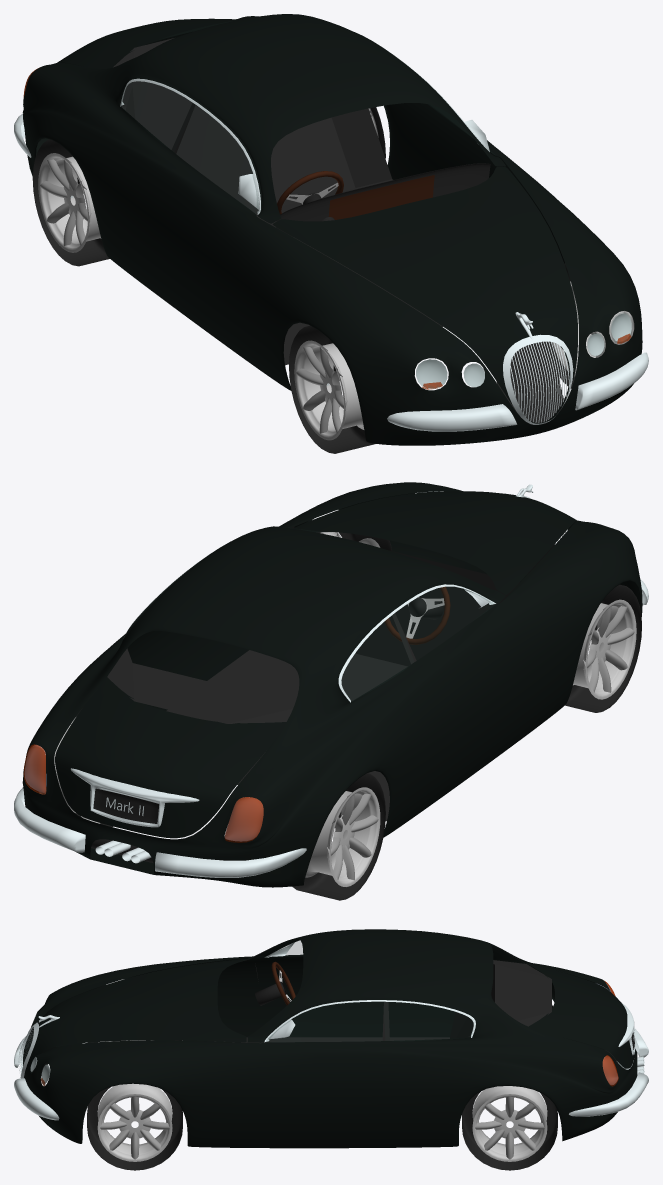
Rendered from JAGUAR SALOON.glb.
3 renders of one model, top to bottom at view 1: azimuth 30°, elevation 25°; view 2: azimuth 150°, elevation 25°; view 3: azimuth 270°, elevation 25°, orthographic. The views are drawn at different scales.
Parts seen in each view (by area): view 1: body, Plane, Minilite (×3), body.001, pneu (×3), board, ss_v, wws (×2), radiator, Würfel_2_3, reflectors, grill (+4 smaller); view 2: body, Plane, body.001, Minilite (×2), pneu (×4), ss_h, wws (×2), numb, heckleuchte, refl, exhaust, Nardi; view 3: body, body.001, Minilite (×2), pneu (×4), Plane, wws (×2), ss_h, ss_v, mirror, hub, Nardi, heckleuchte (+2 smaller).
Part boxes in pixels (bbox=[...]): body: bbox=[22, 14, 642, 445]; Plane: bbox=[113, 38, 442, 365]; Minilite (×3): bbox=[38, 153, 634, 440]; body.001: bbox=[120, 82, 494, 213]; pneu (×3): bbox=[32, 107, 574, 453]; board: bbox=[276, 163, 490, 236]; ss_v: bbox=[387, 352, 648, 431]; wws (×2): bbox=[40, 158, 347, 433]; radiator: bbox=[496, 341, 564, 423]; Würfel_2_3: bbox=[510, 341, 569, 422]; reflectors: bbox=[416, 313, 631, 389]; grill: bbox=[503, 334, 573, 424]; body: bbox=[22, 482, 642, 887]; Plane: bbox=[107, 527, 519, 821]; body.001: bbox=[342, 587, 495, 701]; Minilite (×2): bbox=[305, 599, 636, 886]; pneu (×4): bbox=[75, 532, 641, 900]; ss_h: bbox=[14, 787, 306, 877]; wws (×2): bbox=[327, 604, 634, 880]; numb: bbox=[70, 768, 199, 827]; heckleuchte: bbox=[23, 744, 263, 842]; refl: bbox=[25, 745, 263, 841]; exhaust: bbox=[95, 840, 151, 863]; Nardi: bbox=[384, 586, 450, 644]; body: bbox=[23, 929, 637, 1148]; body.001: bbox=[266, 941, 473, 1041]; Minilite (×2): bbox=[97, 1083, 547, 1161]; pneu (×4): bbox=[87, 1005, 557, 1170]; Plane: bbox=[214, 960, 551, 1043]; wws (×2): bbox=[100, 1096, 544, 1159]; ss_h: bbox=[569, 1028, 648, 1116]; ss_v: bbox=[14, 1036, 59, 1120]; mirror: bbox=[268, 942, 295, 1039]; hub: bbox=[255, 981, 286, 1005]; Nardi: bbox=[271, 961, 295, 1005]; heckleuchte: bbox=[602, 981, 618, 1086].
Bounding box in the file's own units: 17.01 × 12.3 × 42.35.
